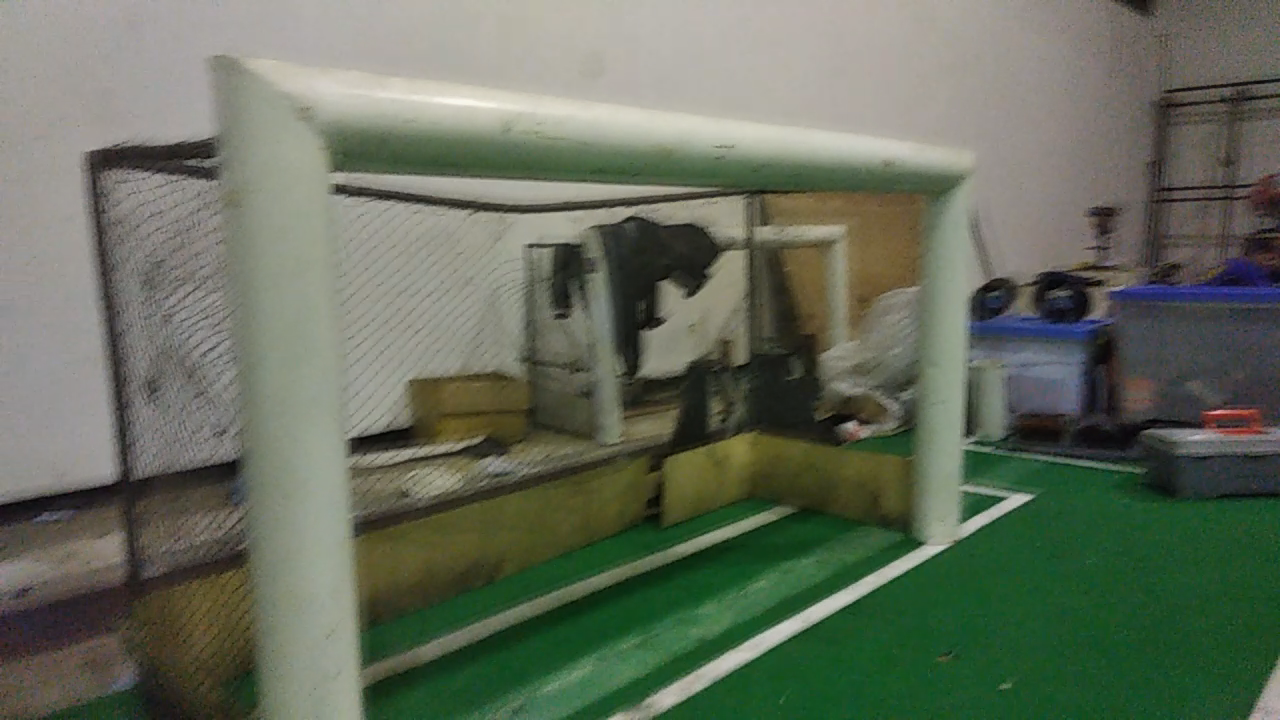gawang: (192, 40, 986, 719)
